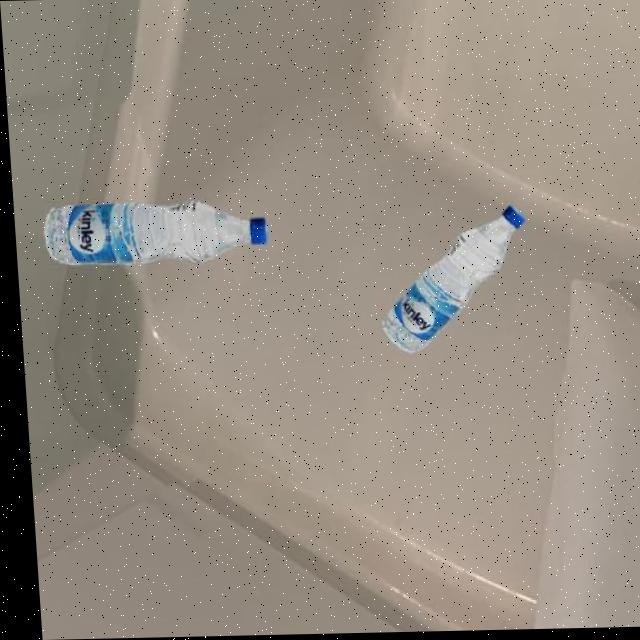bottle: (369, 206, 530, 357), (37, 198, 264, 268)
